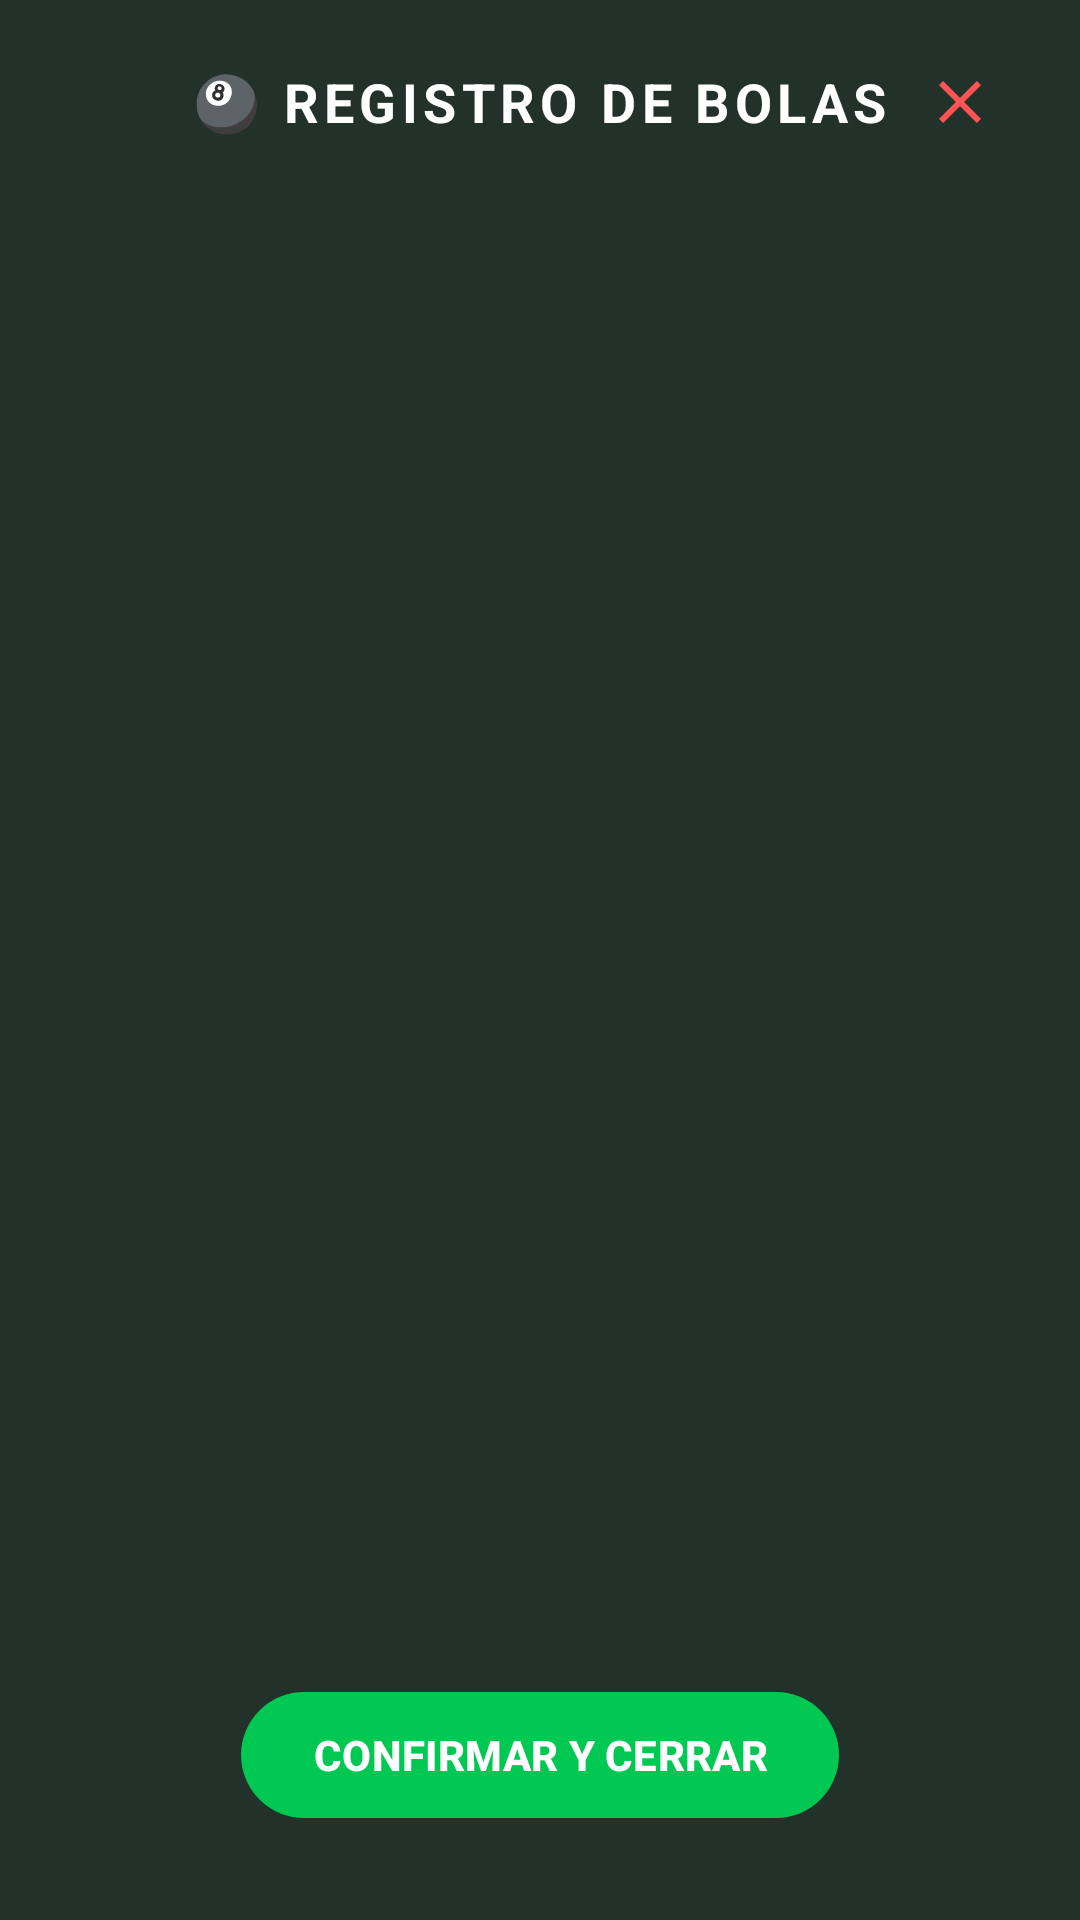

Point at icon controls on the screen. Image size 1080×1920, points as (x,y).
close: (960,102)
